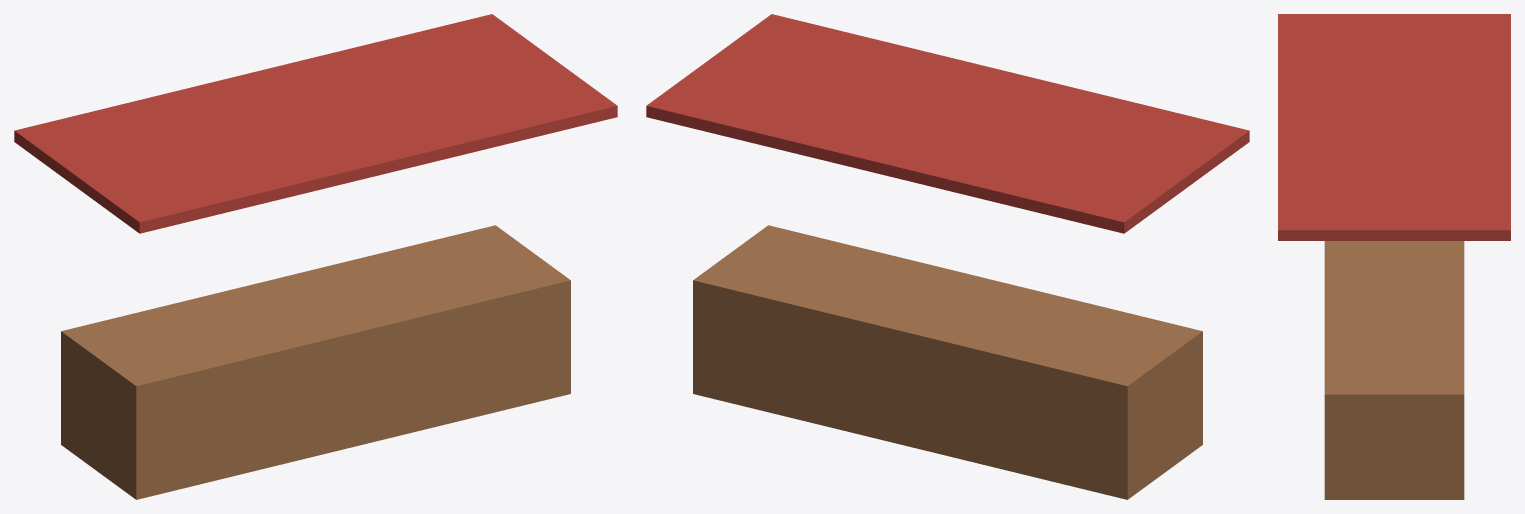
The model's file is marche.glb.
The picture shows the model from 3 angles, left to right: view 1: azimuth 30°, elevation 25°; view 2: azimuth 150°, elevation 25°; view 3: azimuth 270°, elevation 25°; orthographic projection. The views are drawn at different scales.
Size of the model in its own units: 4.4 by 2.65 by 2.
